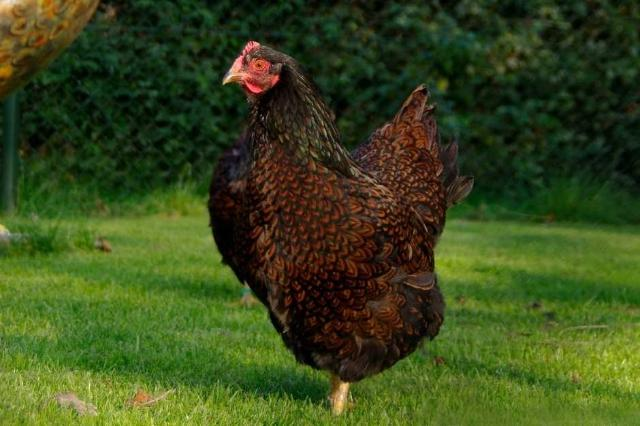Chicken: (209, 38, 474, 421)
